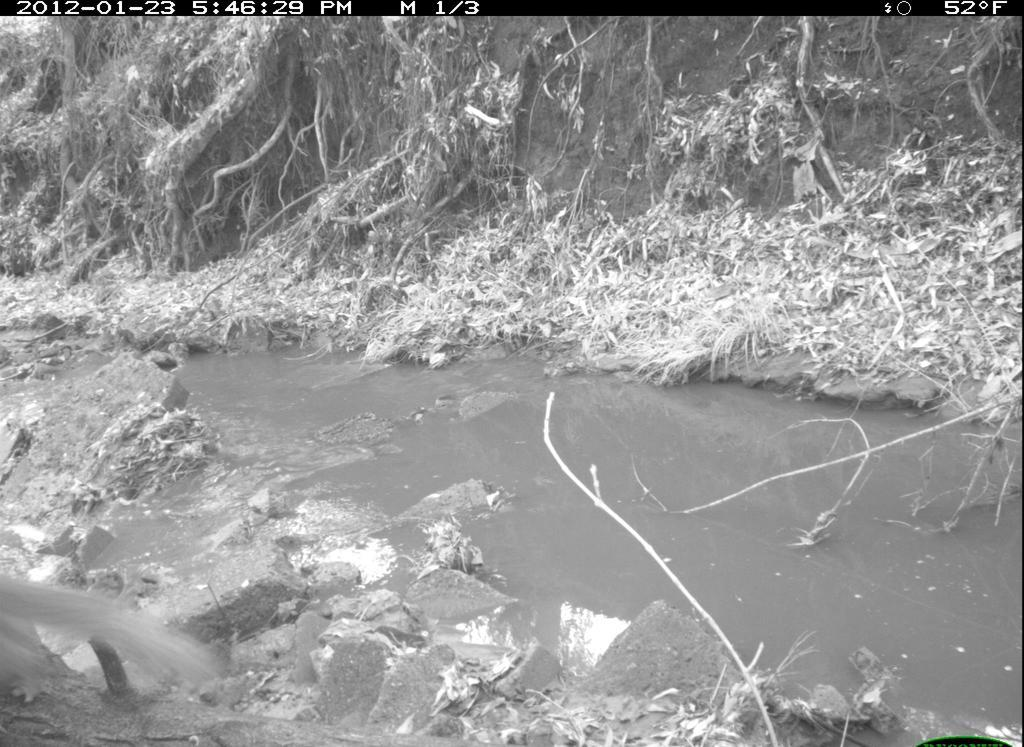squirrel: (2, 547, 227, 707)
